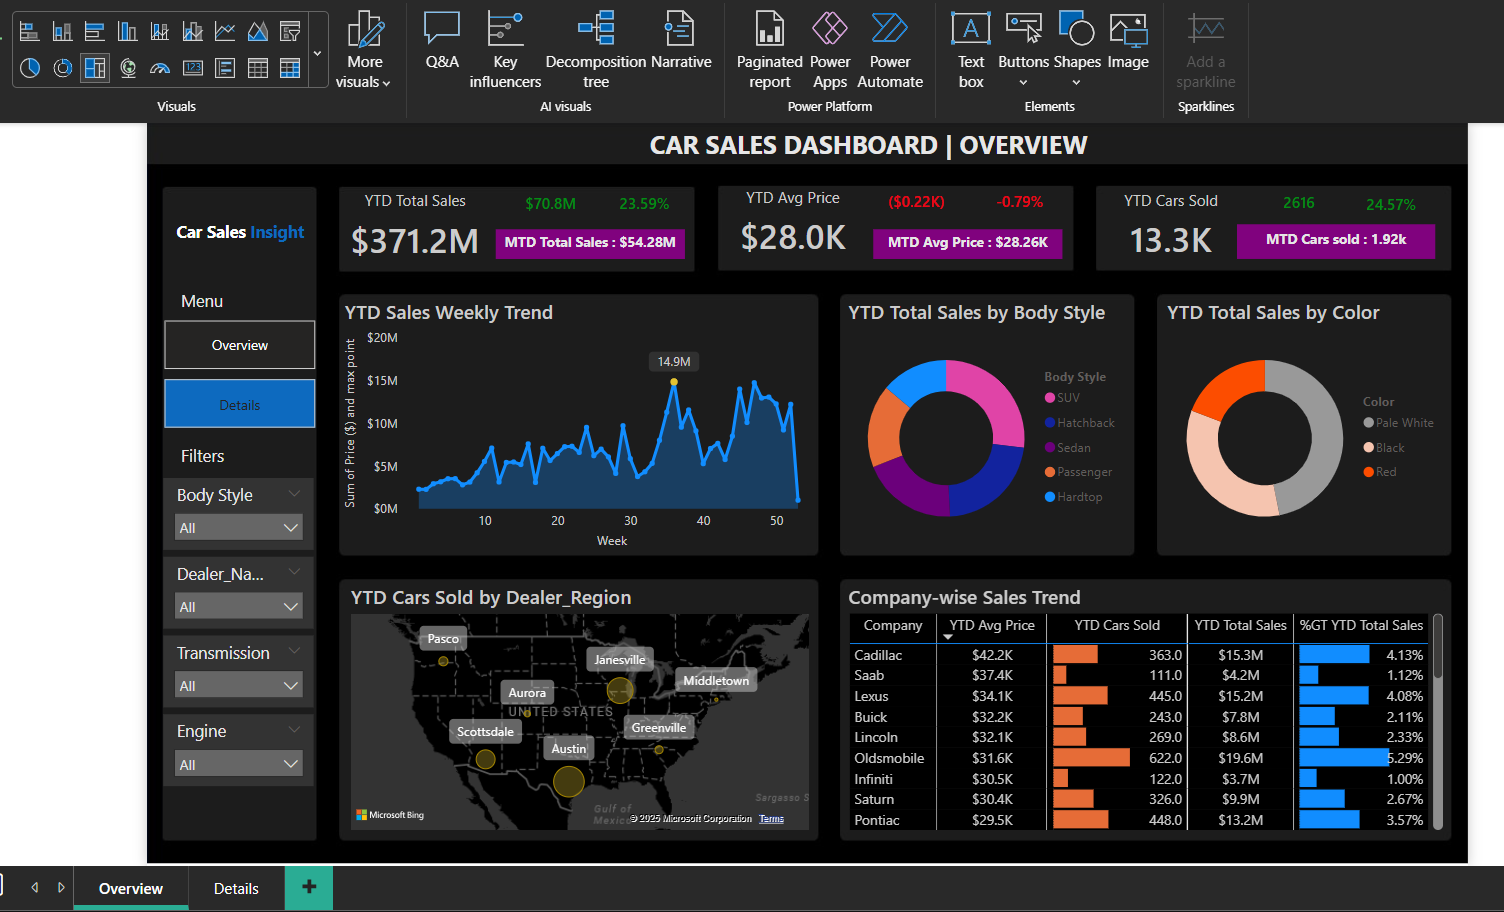

The page's visual inventory and layout, read from the dashboard file:
{"tool":"powerbi","page":{"name":"Overview","canvas":[1280,720],"ordinal":0},"visuals":[{"type":"card","title":"YTD Total Sales","fields":{"Values":["car_data.YTD Total Sales"]},"box":[174.4,64.1,170.9,78.3],"z":0},{"type":"card","title":"Sales Difference","fields":{"Values":["car_data.Sales Difference"]},"box":[345.3,58.7,92.5,40.9],"z":1000},{"type":"card","title":"Sales Difference","fields":{"Values":["car_data.YoY Sales Growth"]},"box":[436,58.7,92.5,40.9],"z":2000},{"type":"card","fields":{"Values":["car_data.MTD KPI"]},"box":[338.2,103.2,183.3,28.5],"z":3000},{"type":"card","title":"YTD Avg Price","fields":{"Values":["car_data.YTD Avg Price"]},"box":[541.1,62.3,169.1,76.5],"z":4000},{"type":"card","fields":{"Values":["car_data.Avg Price diff"]},"box":[703,60.5,83.6,35.6],"z":5000},{"type":"card","fields":{"Values":["car_data.YoY Avg Price Growth"]},"box":[795.6,60.5,99.7,35.6],"z":6000},{"type":"card","fields":{"Values":["car_data.Avg Price KPI"]},"box":[703,103.2,183.3,28.5],"z":7000},{"type":"card","title":"YTD Cars Sold","fields":{"Values":["car_data.YTD Cars Sold"]},"box":[895.2,64.1,192.2,76.5],"z":8000},{"type":"card","fields":{"Values":["car_data.Cars Sold Diff"]},"box":[1071.4,60.5,89,37.4],"z":9000},{"type":"card","fields":{"Values":["car_data.YoY Car Sales Growth"]},"box":[1149.7,58.7,110.3,42.7],"z":10000},{"type":"card","fields":{"Values":["car_data.Cars sold KPI"]},"box":[1055.4,97.9,192.2,33.8],"z":11000},{"type":"lineChart","title":"YTD Sales Weekly Trend","fields":{"Category":["Calendar Table.Week"],"Y":["Sum(car_data.Price ($))","car_data.max point"]},"box":[186.9,169.1,466.3,247.4],"z":12000},{"type":"donutChart","fields":{"Category":["car_data.Body Style"],"Y":["car_data.YTD Total Sales"]},"box":[674.5,169.1,277.6,247.4],"z":13000},{"type":"donutChart","fields":{"Y":["car_data.YTD Total Sales"],"Category":["car_data.Color"]},"box":[982.4,169.1,277.6,247.4],"z":14000},{"type":"map","fields":{"Category":["car_data.Dealer_Region"],"Size":["car_data.YTD Cars Sold"]},"box":[192.2,444.9,453.8,243.8],"z":15000},{"type":"tableEx","title":"Company-wise Sales Trend","fields":{"Values":["car_data.Company","car_data.YTD Avg Price","car_data.YTD Cars Sold","car_data.YTD Total Sales1","car_data.YTD Total Sales"]},"box":[674.5,444.9,585.5,243.8],"z":16000},{"type":"textbox","box":[482.3,0,437.8,42.7],"z":17000},{"type":"slicer","fields":{"Values":["car_data.Body Style"]},"box":[16,343.5,145.9,69.4],"z":18000},{"type":"slicer","fields":{"Values":["car_data.Dealer_Name"]},"box":[16,420,145.9,69.4],"z":19000},{"type":"slicer","fields":{"Values":["car_data.Transmission"]},"box":[16,496.6,145.9,69.4],"z":20000},{"type":"slicer","fields":{"Values":["car_data.Engine"]},"box":[16,573.1,145.9,69.4],"z":21000},{"type":"pageNavigator","box":[16.7,191.7,146.7,105],"z":22000},{"type":"textbox","box":[28.3,156.7,76.7,31.7],"z":22001},{"type":"textbox","box":[28.3,306.7,76.7,31.7],"z":22002},{"type":"textbox","box":[16.7,71.7,146.7,60],"z":22003}]}

Visuals, with their boxes on the page's 1280x720 design canvas (x1, y1, x2, y2). These are canvas units, not pixel positions in the 1504x912 screenshot, which may show the page scaled, cropped or inside an application window:
"YTD Total Sales" card: [174,64,345,142]
"Sales Difference" card: [345,59,438,100]
"Sales Difference" card: [436,59,528,100]
card - car_data.MTD KPI: [338,103,522,132]
"YTD Avg Price" card: [541,62,710,139]
card - car_data.Avg Price diff: [703,60,787,96]
card - car_data.YoY Avg Price Growth: [796,60,895,96]
card - car_data.Avg Price KPI: [703,103,886,132]
"YTD Cars Sold" card: [895,64,1087,141]
card - car_data.Cars Sold Diff: [1071,60,1160,98]
card - car_data.YoY Car Sales Growth: [1150,59,1260,101]
card - car_data.Cars sold KPI: [1055,98,1248,132]
"YTD Sales Weekly Trend" lineChart: [187,169,653,416]
donutChart - car_data.Body Style x car_data.YTD Total Sales: [674,169,952,416]
donutChart - car_data.YTD Total Sales x car_data.Color: [982,169,1260,416]
map - car_data.Dealer_Region x car_data.YTD Cars Sold: [192,445,646,689]
"Company-wise Sales Trend" tableEx: [674,445,1260,689]
textbox: [482,0,920,43]
slicer - car_data.Body Style: [16,344,162,413]
slicer - car_data.Dealer_Name: [16,420,162,489]
slicer - car_data.Transmission: [16,497,162,566]
slicer - car_data.Engine: [16,573,162,642]
pageNavigator: [17,192,163,297]
textbox: [28,157,105,188]
textbox: [28,307,105,338]
textbox: [17,72,163,132]
